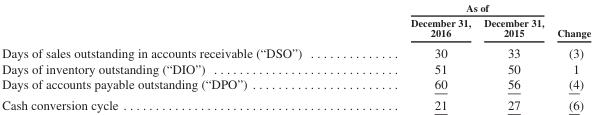table: (1, 0, 590, 111)
table column: (1, 0, 355, 111), (355, 0, 476, 111), (476, 0, 549, 111), (549, 0, 590, 111)
table column header: (1, 0, 590, 42)
table row: (1, 14, 590, 42), (1, 42, 590, 60), (1, 75, 590, 93), (1, 93, 590, 111), (1, 60, 590, 75), (1, 0, 590, 14)
table spanning cell: (355, 0, 549, 14), (549, 0, 590, 42)
